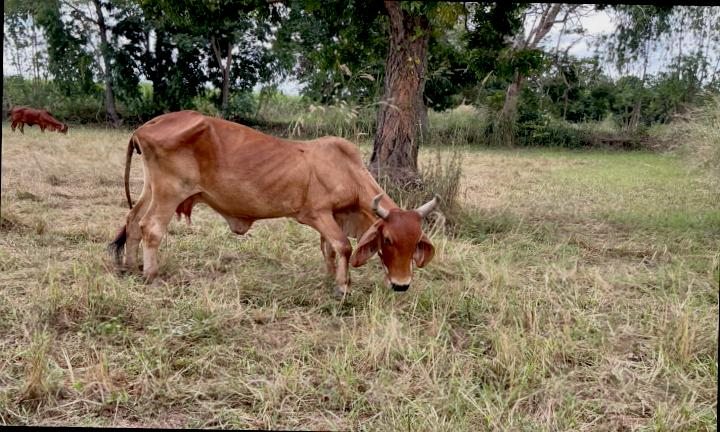Brahman: (109, 110, 439, 295)
